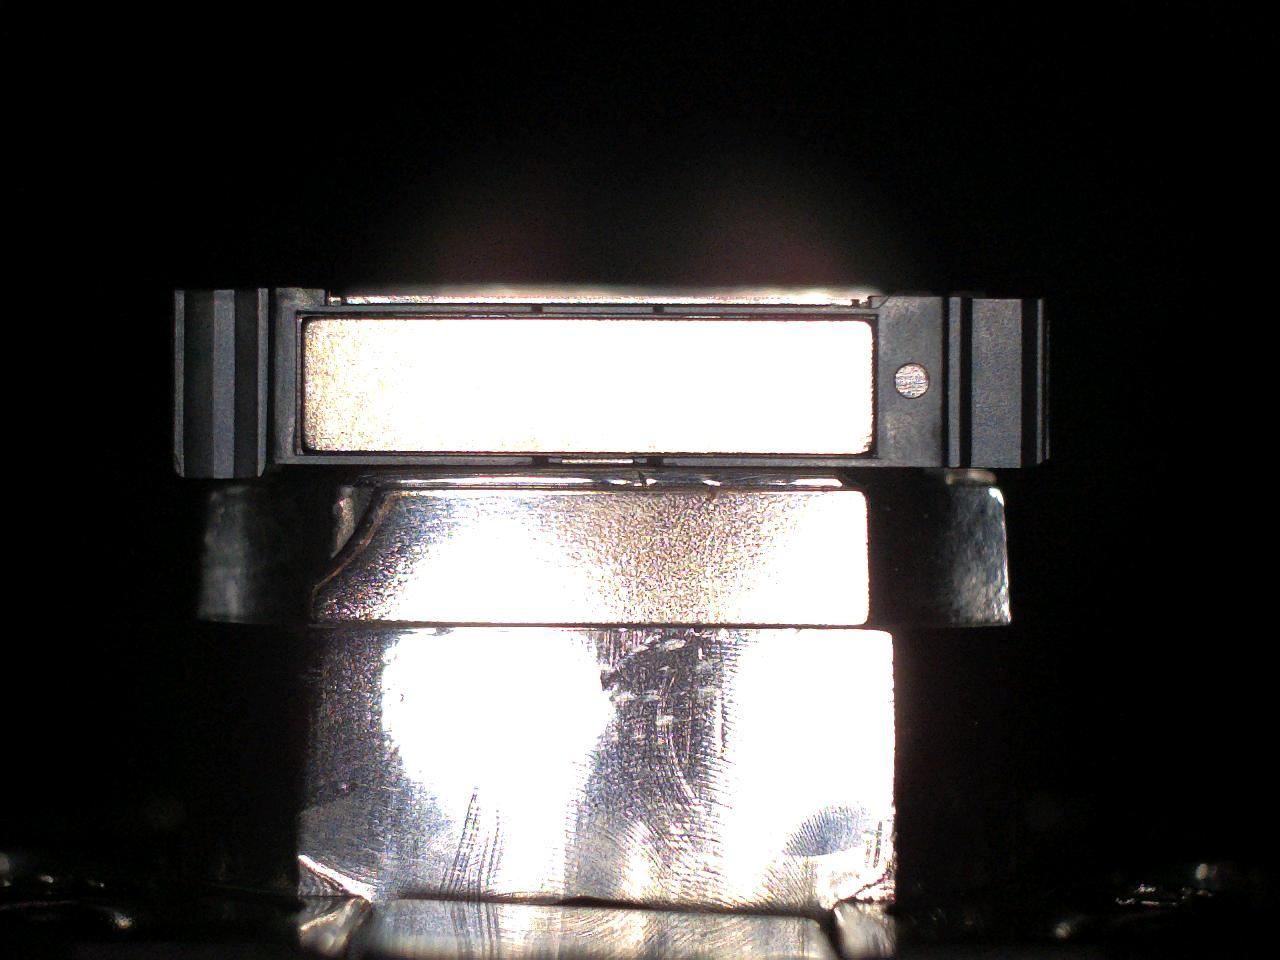frame: (172, 289, 1051, 480), (542, 305, 654, 312)
gap: (662, 452, 878, 460), (301, 313, 533, 320), (301, 449, 533, 456), (664, 315, 876, 322), (543, 312, 653, 320), (548, 452, 647, 458)
magnetic: (302, 321, 874, 453)
